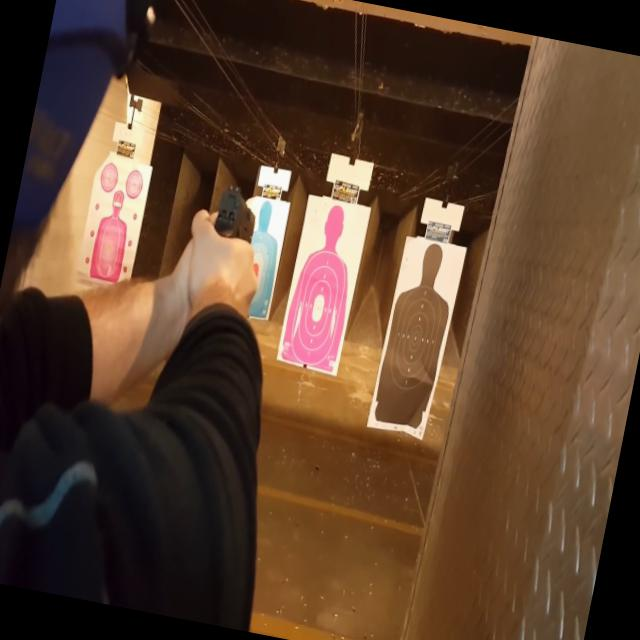handgun: (196, 170, 272, 308)
